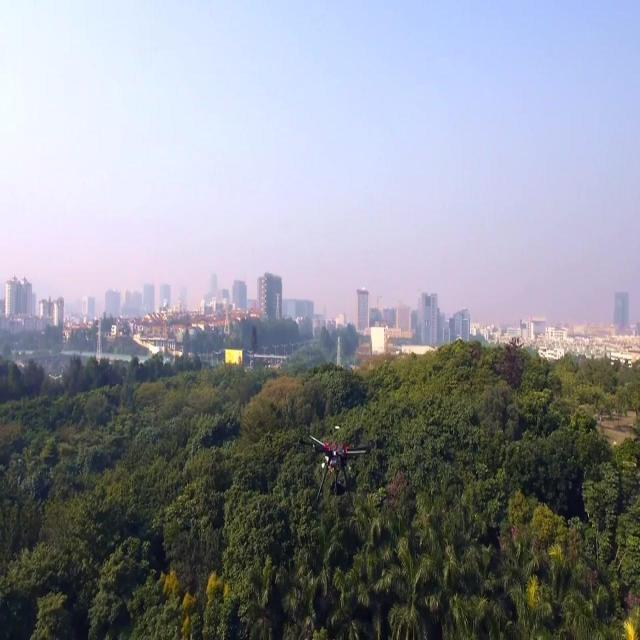UAV: (308, 434, 366, 501)
